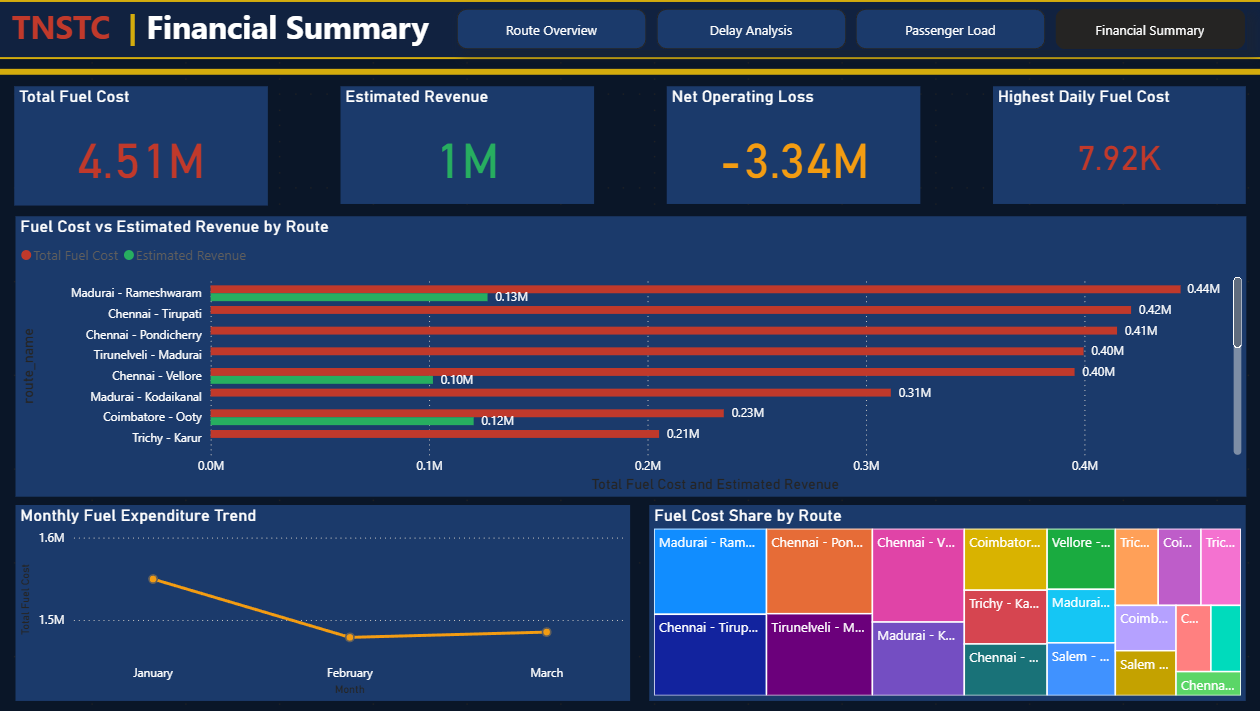

The page's visual inventory and layout, read from the dashboard file:
{"tool":"powerbi","page":{"name":"Financial Summary","canvas":[1280,720],"ordinal":3},"visuals":[{"type":"shape","box":[0,0,1280,59.8],"z":0},{"type":"shape","box":[0,59.8,1280,26.4],"z":1000},{"type":"textbox","box":[0,0,1280,72.6],"z":2000},{"type":"card","title":"Total Fuel Cost","fields":{"Values":["buses.Total Fuel Cost"]},"box":[16.9,87,257.1,120.8],"z":3000},{"type":"card","title":"Estimated Revenue","fields":{"Values":["buses.Estimated Revenue"]},"box":[347.3,87.2,257,119.5],"z":4000},{"type":"card","title":"Net Operating Loss","fields":{"Values":["buses.Net Loss"]},"box":[677.5,87.2,257,119.5],"z":5000},{"type":"card","title":"Highest Daily Fuel Cost","fields":{"Values":["Max(fuel_expenses.fuel_cost)"]},"box":[1007.8,87,255.8,119.5],"z":6000},{"type":"clusteredBarChart","title":"Fuel Cost vs Estimated Revenue by Route","fields":{"Category":["routes.route_name"],"Y":["buses.Total Fuel Cost","buses.Estimated Revenue"]},"box":[17.2,219.1,1246.8,284.3],"z":7000},{"type":"lineChart","title":"Monthly Fuel Expenditure Trend","fields":{"Category":["fuel_expenses.date.Variation.Date Hierarchy.Month"],"Y":["buses.Total Fuel Cost"]},"box":[17.2,510.8,622.8,198.2],"z":8000},{"type":"treemap","title":"Fuel Cost Share by Route","fields":{"Group":["routes.route_name"],"Values":["buses.Total Fuel Cost"]},"box":[659.7,510.8,604.3,198.2],"z":9000},{"type":"pageNavigator","box":[464,8.6,800,41.8],"z":10000}]}

Visuals, with their boxes in screenshot pixels (x1, y1, x2, y2), scaled from the page's 1280x720 canvas onto the 1260x711 screenshot:
shape: detection(0, 0, 1259, 59)
shape: detection(0, 59, 1259, 85)
textbox: detection(0, 0, 1259, 72)
"Total Fuel Cost" card: detection(17, 86, 270, 205)
"Estimated Revenue" card: detection(342, 86, 595, 204)
"Net Operating Loss" card: detection(667, 86, 920, 204)
"Highest Daily Fuel Cost" card: detection(992, 86, 1244, 204)
"Fuel Cost vs Estimated Revenue by Route" clusteredBarChart: detection(17, 216, 1244, 497)
"Monthly Fuel Expenditure Trend" lineChart: detection(17, 504, 630, 700)
"Fuel Cost Share by Route" treemap: detection(649, 504, 1244, 700)
pageNavigator: detection(457, 8, 1244, 50)
